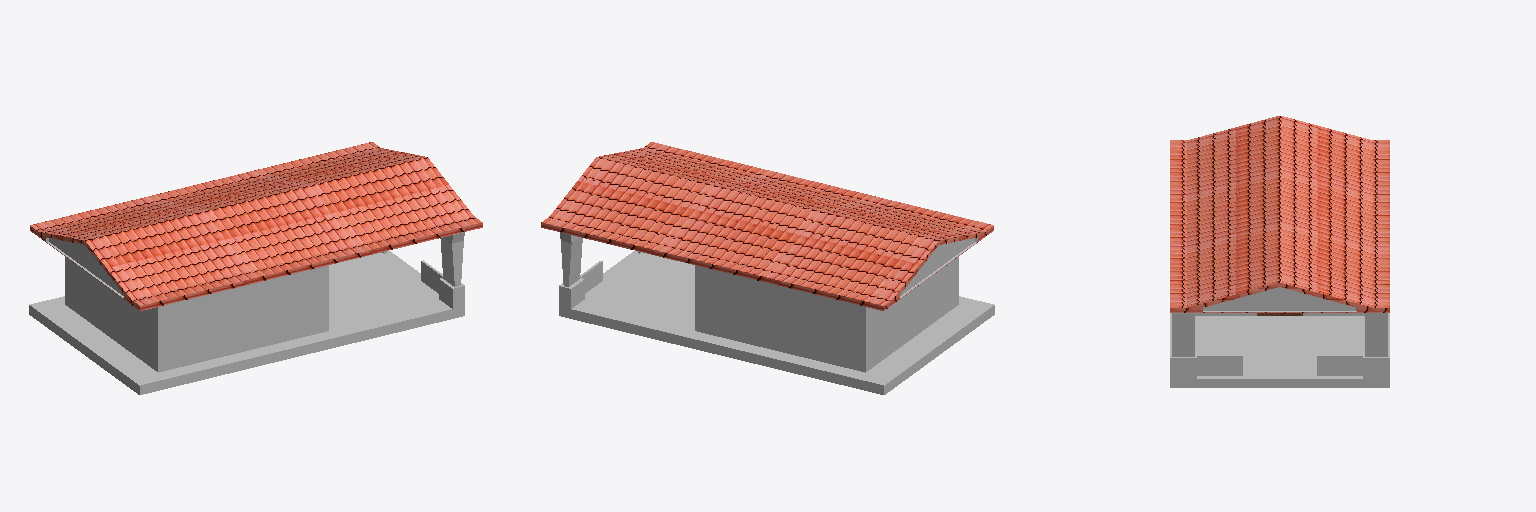
3 views of the same model, side by side, from view 1: azimuth 30°, elevation 25°; view 2: azimuth 150°, elevation 25°; view 3: azimuth 270°, elevation 25° (orthographic).
Parts seen in each view (by area): view 1: Cube; view 2: Cube; view 3: Cube.
Boxes of the visible parts, x1=… form: Cube: x1=29, y1=142, x2=482, y2=394; Cube: x1=541, y1=142, x2=994, y2=394; Cube: x1=1170, y1=116, x2=1389, y2=387.
Bounding box in the file's own units: 59.14 × 18.81 × 32.96.
Materials: 6 (2 with a texture image).